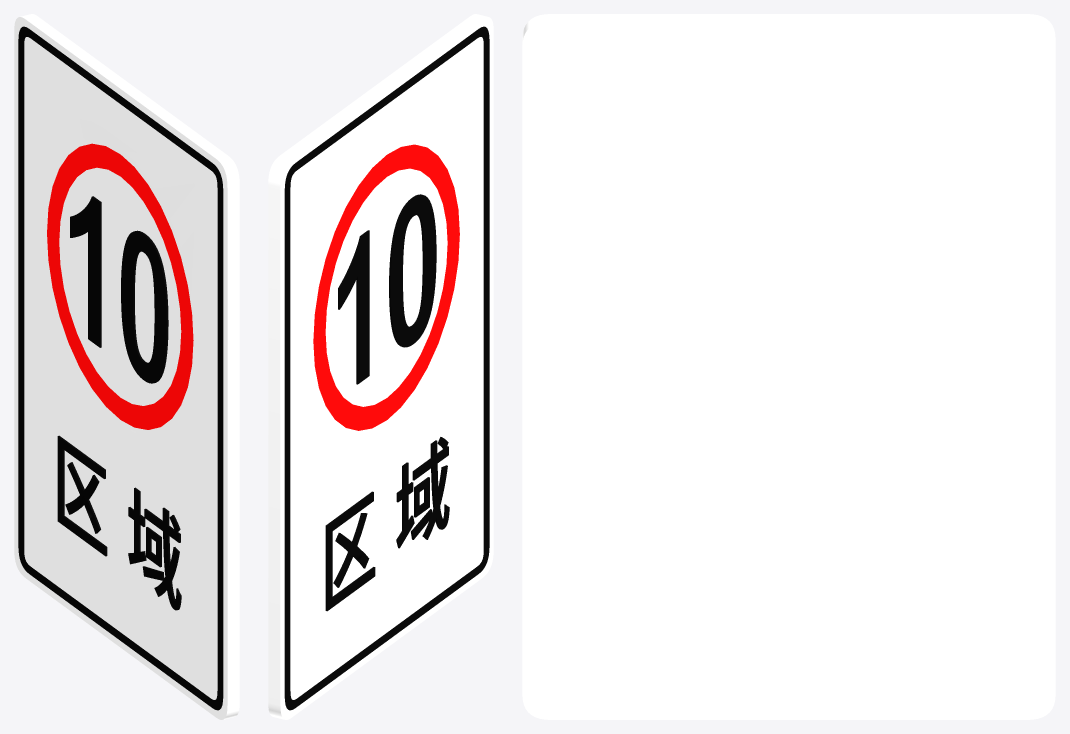
The model's file is Regional_Speed_Limit_10.glb.
3 views of the same model, side by side, from view 1: azimuth 30°, elevation 25°; view 2: azimuth 150°, elevation 25°; view 3: azimuth 270°, elevation 25° (orthographic). The views are drawn at different scales.
Visible parts, largest first — view 1: Regional_Speed_Limit_10; view 2: Regional_Speed_Limit_10; view 3: Regional_Speed_Limit_10.
Boxes of the visible parts, left/top/right/bottom form: Regional_Speed_Limit_10: left=14, top=14, right=239, bottom=719; Regional_Speed_Limit_10: left=268, top=14, right=493, bottom=719; Regional_Speed_Limit_10: left=522, top=14, right=1055, bottom=719.
Bounding box in the file's own units: 0.0342 × 1.3 × 0.9.
